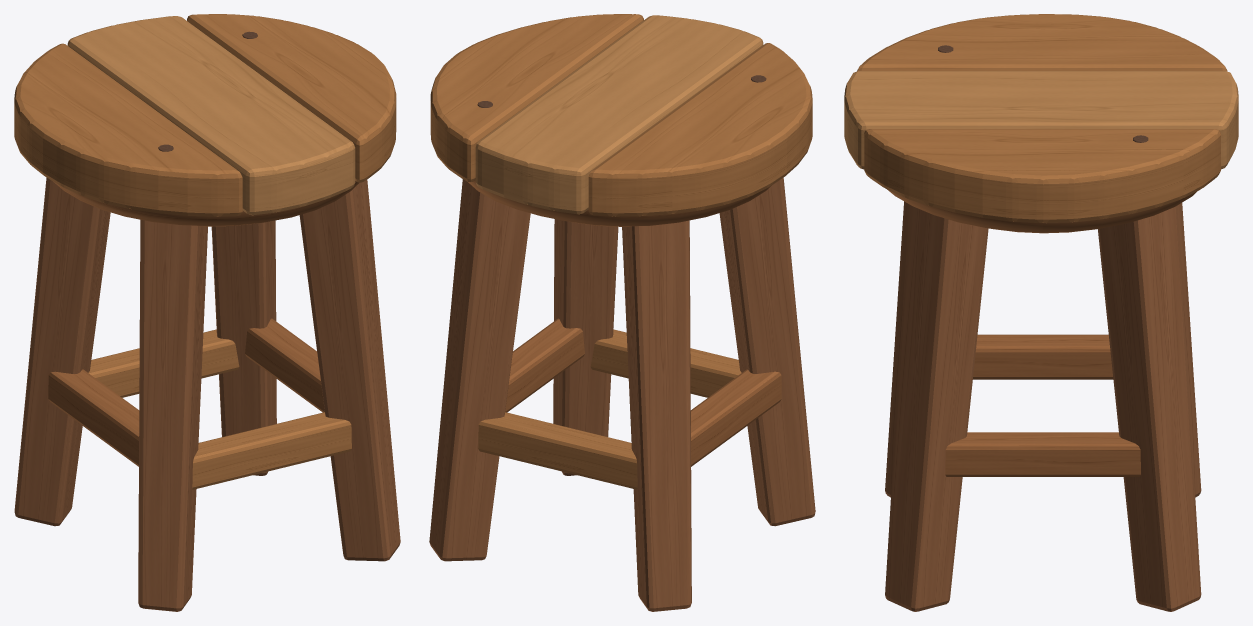
The model's file is SM_GukbapStool.fbx.
3 views of the same model, side by side, from view 1: azimuth 30°, elevation 25°; view 2: azimuth 150°, elevation 25°; view 3: azimuth 270°, elevation 25° (orthographic). The views are drawn at different scales.
Parts seen in each view (by area): view 1: SM_GukbapStool; view 2: SM_GukbapStool; view 3: SM_GukbapStool.
Part boxes in pixels (box(x1,y1,x2,y2)): SM_GukbapStool: box(14, 14, 400, 611); SM_GukbapStool: box(429, 14, 815, 611); SM_GukbapStool: box(844, 14, 1238, 611).
Size of what is drawn, in the model's own units: 33.17 by 33.16 by 42.56.
1 material, 1 textured.
